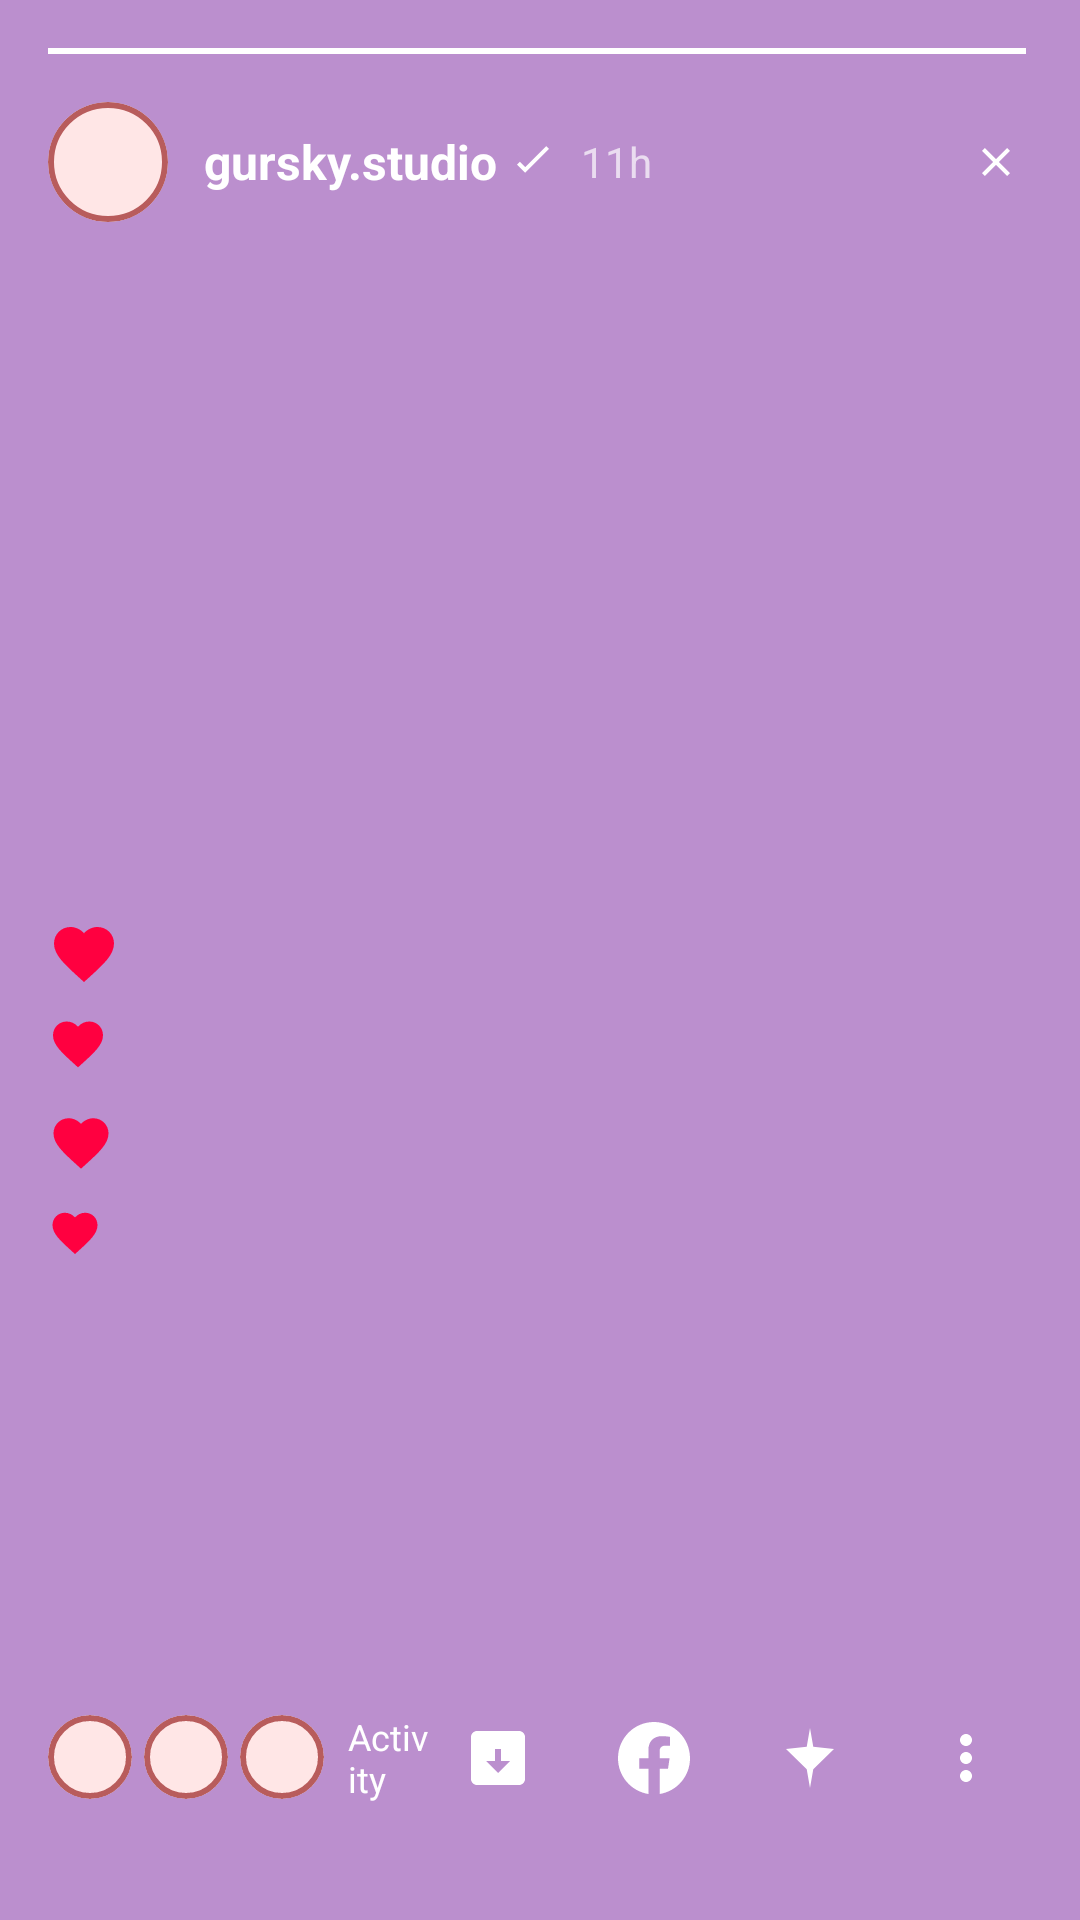

Icons on this 1080×1920 Android screen, each with its box as (x1, y1, x2, y2):
close: (982, 148, 1010, 176)
heart: (54, 927, 114, 982), (53, 1021, 103, 1067), (53, 1118, 109, 1169), (52, 1212, 98, 1254)
more dots: (960, 1734, 972, 1782)
verified: (517, 146, 549, 173)
